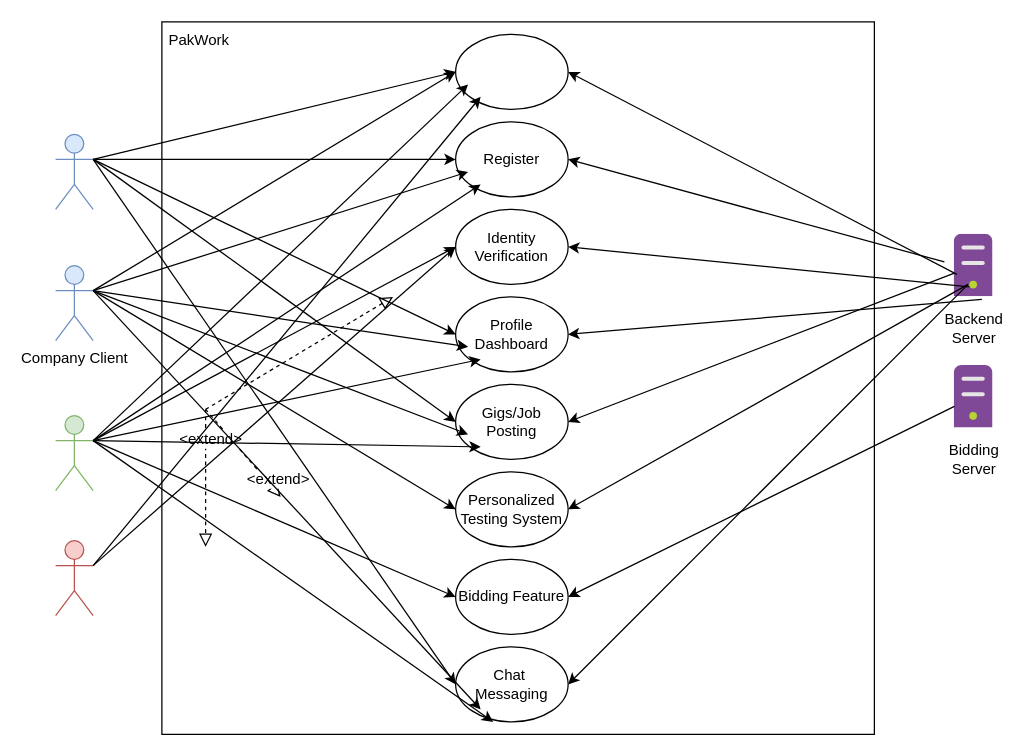
Image size: 1033x756. Some labels were removed from this diagram. Here are the shapes that lost their labels. From the top down, the box of each, then its label:
(454, 33, 568, 109): Login
(54, 133, 93, 209): Client
(54, 414, 93, 491): Freelancer
(54, 539, 93, 616): Administrator
